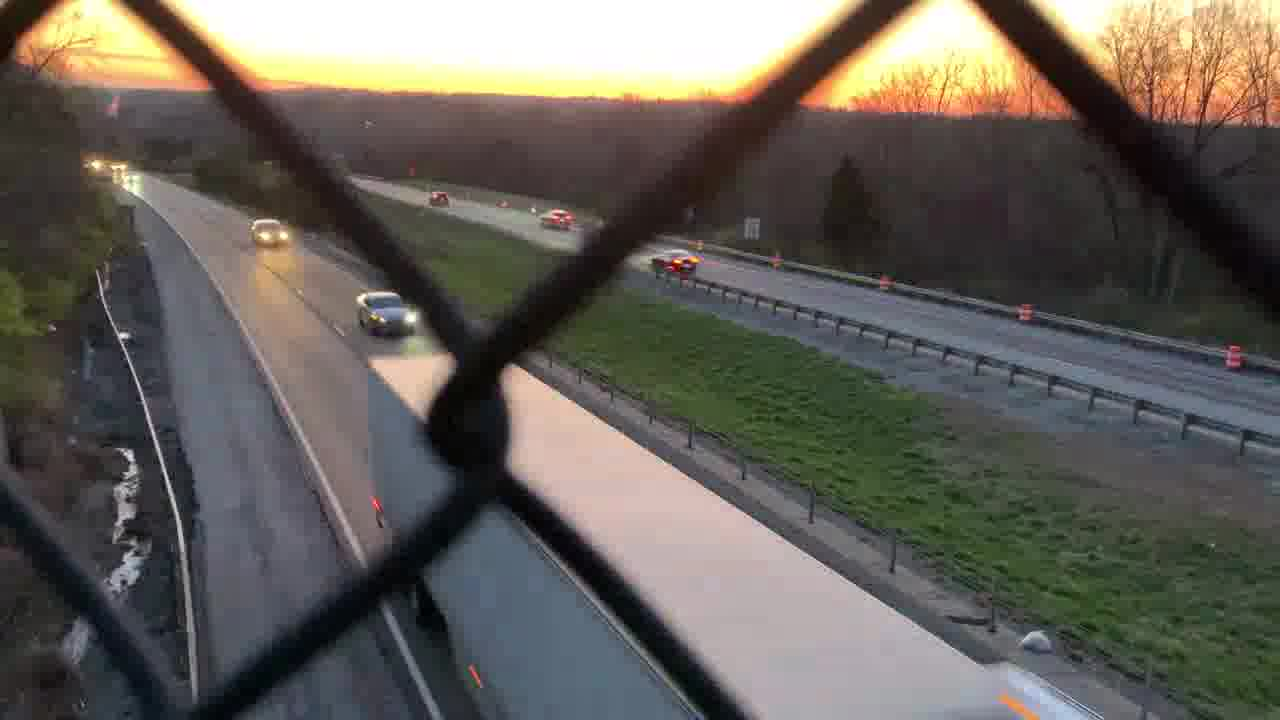heavyTruck: (361, 347, 1091, 720)
smallCar: (359, 283, 424, 345), (652, 245, 696, 275)
